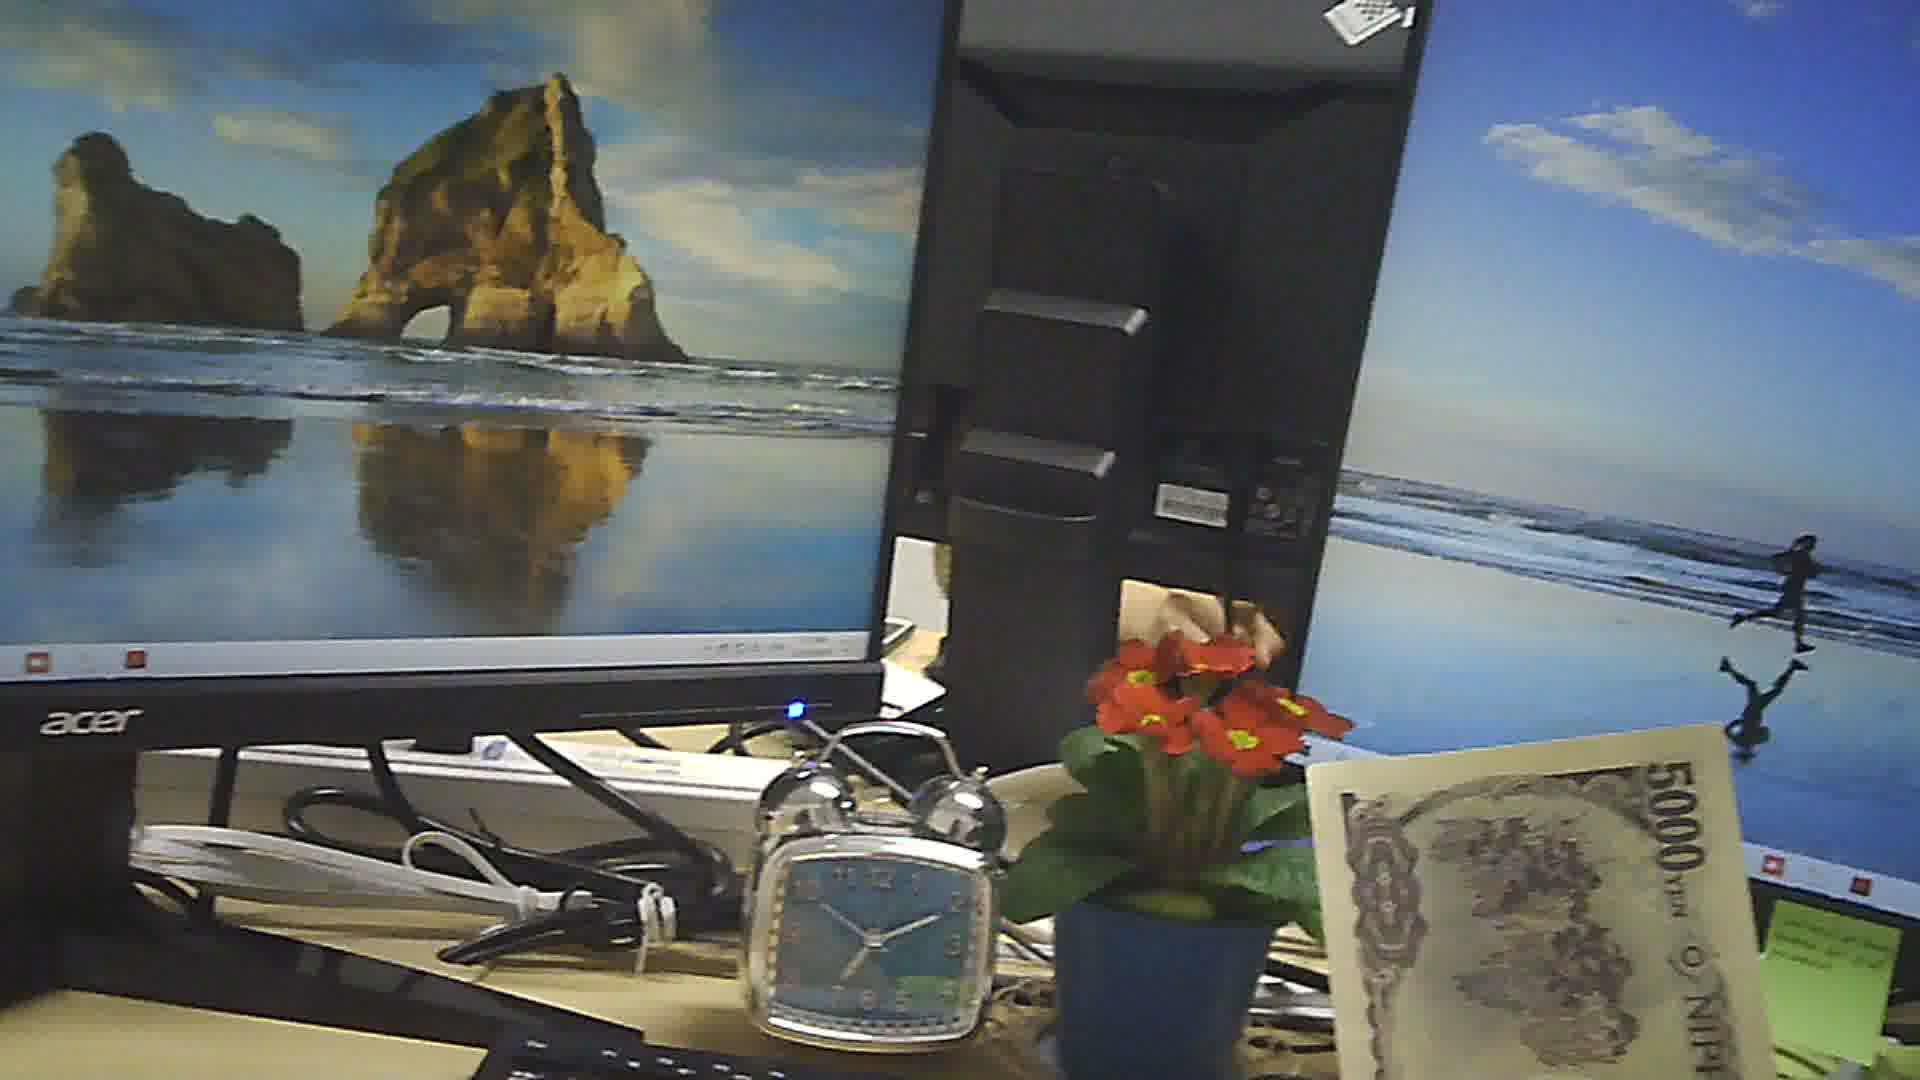5,000 Yen: (1305, 694, 1771, 1079)
